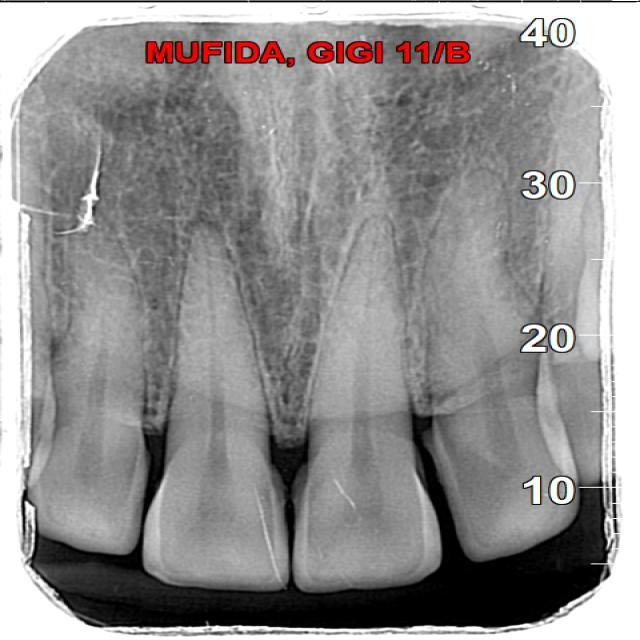individual-tooth-8tto: (430, 167, 585, 564), (293, 219, 444, 587), (146, 228, 291, 590)
